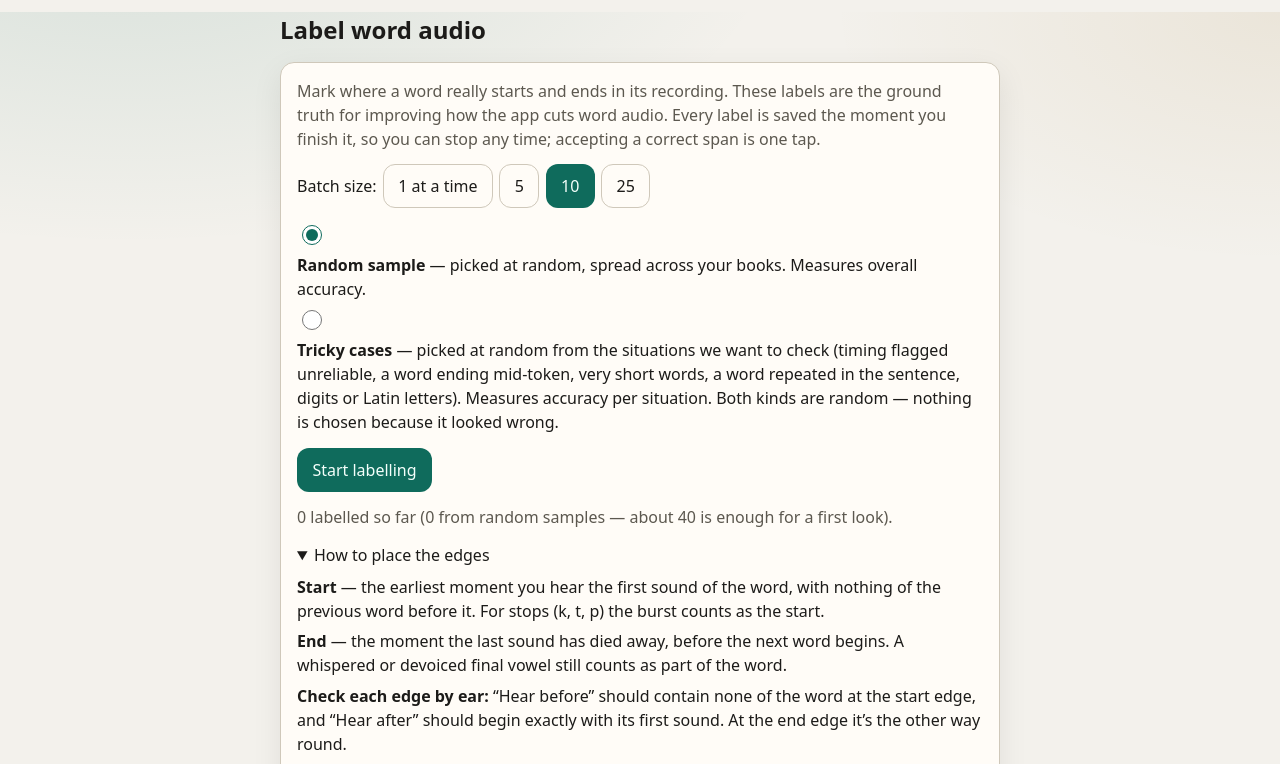
Scenario: LabelWordAudioPage › a word that appears twice in the sentence › tells you to label the highlighted first one
Click the button "Start labelling" at (364,470), box [297,448,432,492]
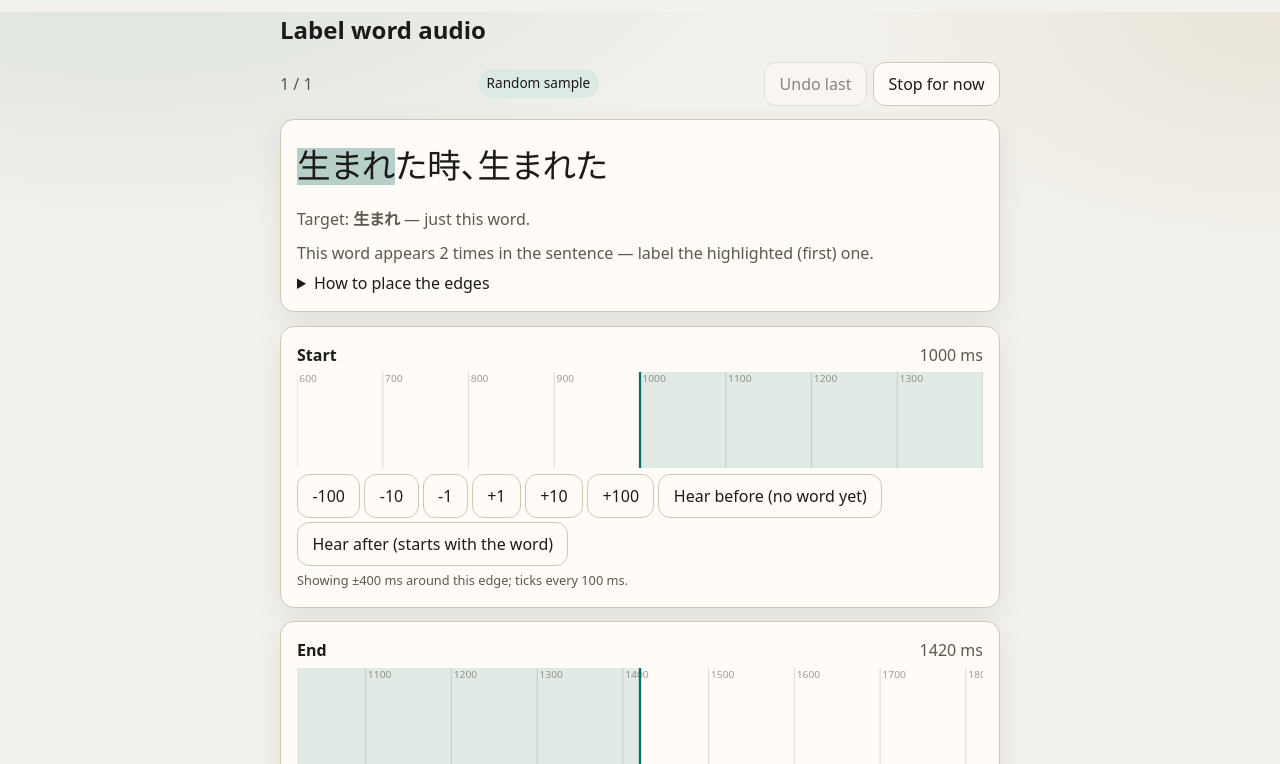
Result: the text "appears 2 times in the sentence — label the highlighted (first) one" is shown at [297,242,874,264]
